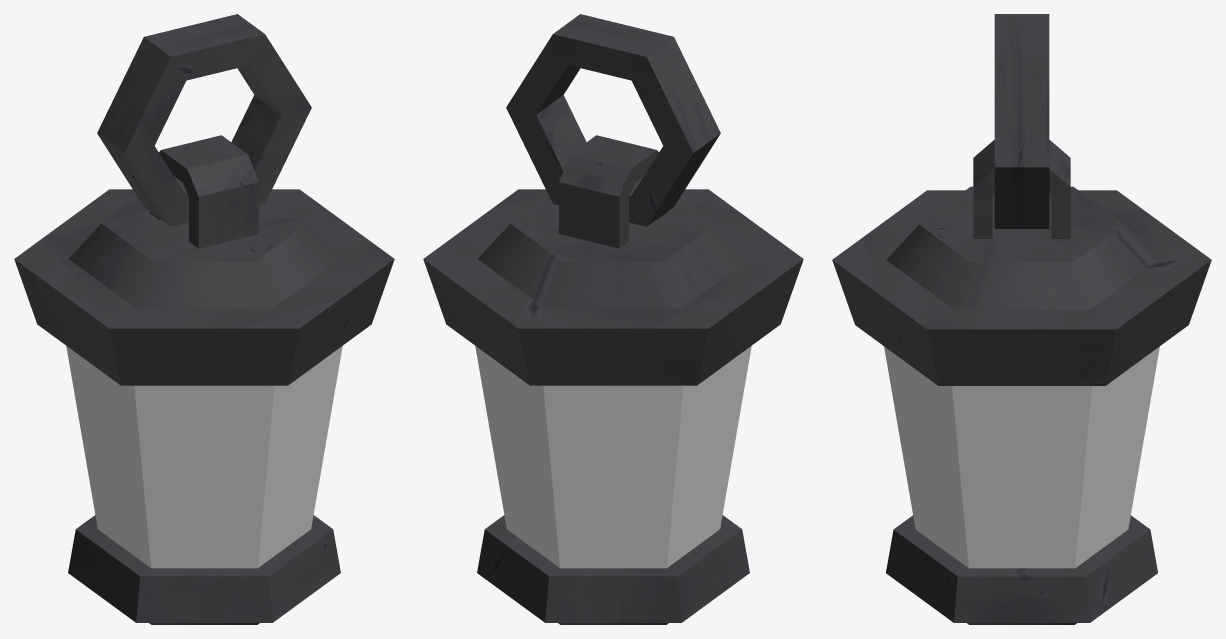
File: SM_PROP_lantern_01.fbx
The picture shows the model from 3 angles, left to right: view 1: azimuth 30°, elevation 25°; view 2: azimuth 150°, elevation 25°; view 3: azimuth 270°, elevation 25°; orthographic projection.
Parts seen in each view (by area): view 1: SM_PROP_lantern_01; view 2: SM_PROP_lantern_01; view 3: SM_PROP_lantern_01.
Boxes of the visible parts, x1,y1,x2,y2 form: SM_PROP_lantern_01: [14, 14, 394, 624]; SM_PROP_lantern_01: [423, 14, 803, 624]; SM_PROP_lantern_01: [832, 14, 1211, 624].
Bounding box in the file's own units: 50.77 × 93.62 × 58.62.
